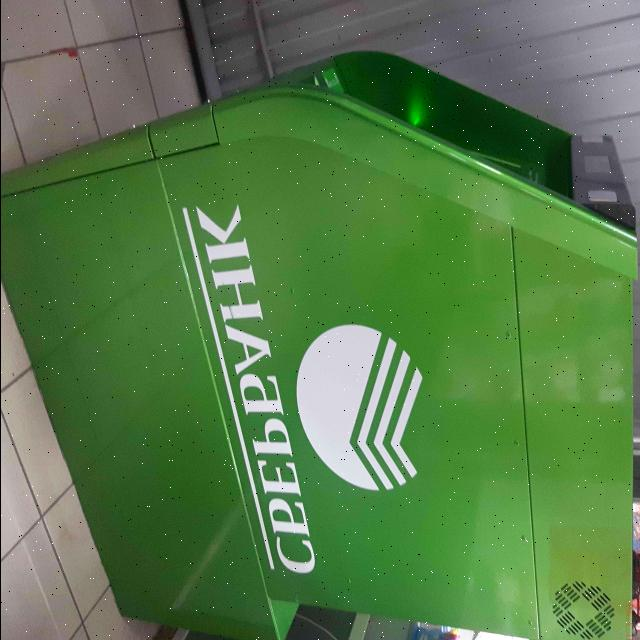bank: (0, 47, 637, 640)
